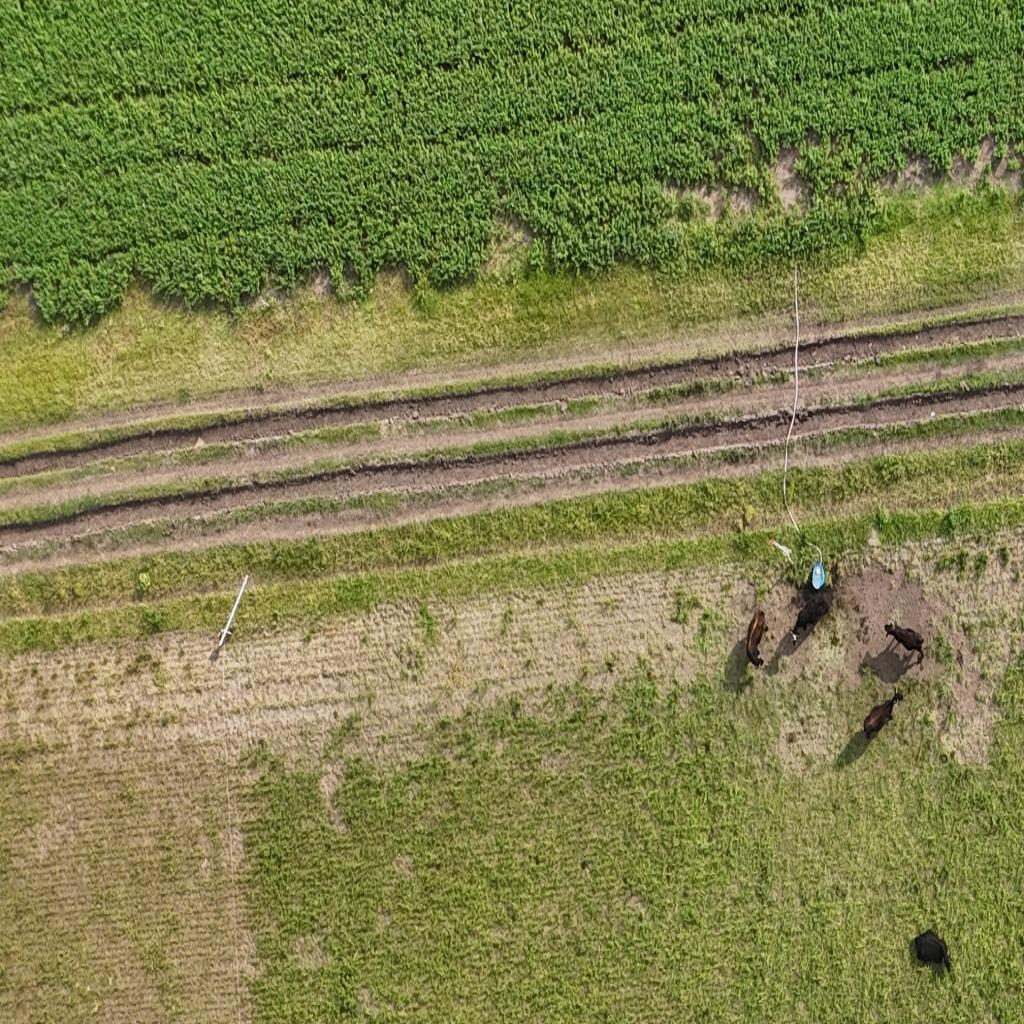cow: (859, 675, 909, 744), (909, 924, 956, 985), (880, 614, 926, 670), (786, 586, 830, 642), (744, 604, 768, 669)
